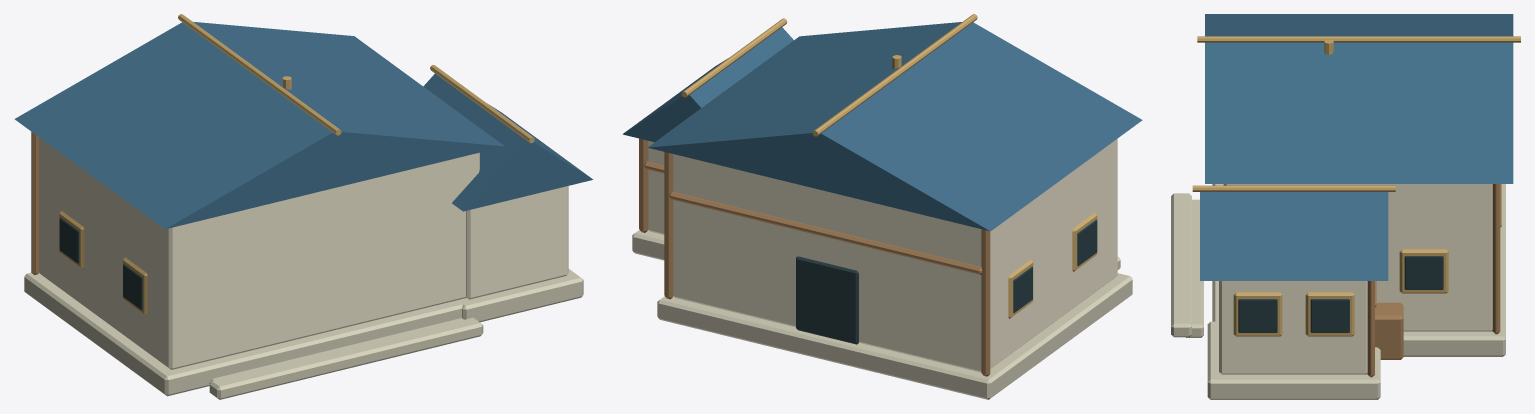
File: level_15.glb
The picture shows the model from 3 angles, left to right: view 1: azimuth 30°, elevation 25°; view 2: azimuth 150°, elevation 25°; view 3: azimuth 270°, elevation 25°; orthographic projection. The views are drawn at different scales.
Visible parts, largest first — view 1: warehouse — level 15; view 2: warehouse — level 15; view 3: warehouse — level 15.
Part boxes in pixels (bbox=[...]): warehouse — level 15: bbox=[14, 14, 593, 399]; warehouse — level 15: bbox=[622, 14, 1142, 399]; warehouse — level 15: bbox=[1171, 14, 1520, 399].
Size of the model in its own units: 6.7 by 3.52 by 4.65.
